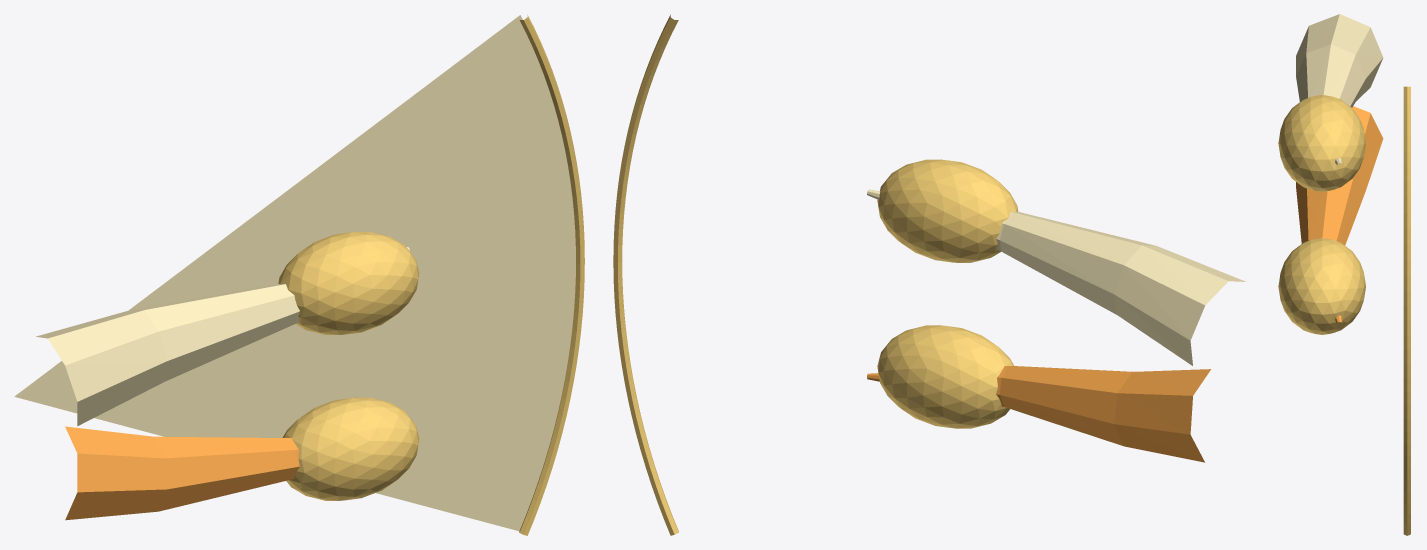
3 renders of one model, left to right at view 1: azimuth 30°, elevation 25°; view 2: azimuth 150°, elevation 25°; view 3: azimuth 270°, elevation 25°, orthographic. The views are drawn at different scales.
Parts seen in each view (by area): view 1: Q_forward_cone_fill, Q_punch_trail_1, Q_punch_trail_-1, Q_fist_1, Q_fist_-1, Q_forward_cone_rim; view 2: Q_punch_trail_1, Q_punch_trail_-1, Q_fist_1, Q_fist_-1, Q_forward_cone_rim; view 3: Q_fist_1, Q_fist_-1, Q_punch_trail_1, Q_punch_trail_-1, Q_forward_cone_rim.
Part boxes in pixels (x1=…): Q_forward_cone_fill: x1=14, y1=15, x2=575, y2=531; Q_punch_trail_1: x1=36, y1=247, x2=410, y2=426; Q_punch_trail_-1: x1=65, y1=426, x2=299, y2=520; Q_fist_1: x1=278, y1=232, x2=419, y2=334; Q_fist_-1: x1=282, y1=397, x2=419, y2=500; Q_forward_cone_rim: x1=519, y1=14, x2=584, y2=535; Q_punch_trail_1: x1=867, y1=189, x2=1245, y2=365; Q_punch_trail_-1: x1=867, y1=366, x2=1210, y2=462; Q_fist_1: x1=877, y1=159, x2=1018, y2=262; Q_fist_-1: x1=877, y1=325, x2=1013, y2=428; Q_forward_cone_rim: x1=613, y1=14, x2=678, y2=535; Q_fist_1: x1=1278, y1=95, x2=1365, y2=191; Q_fist_-1: x1=1278, y1=238, x2=1365, y2=334; Q_punch_trail_1: x1=1296, y1=14, x2=1383, y2=166; Q_punch_trail_-1: x1=1296, y1=106, x2=1383, y2=323; Q_forward_cone_rim: x1=1403, y1=86, x2=1410, y2=535.
Bounding box in the file's own units: 3.28 × 2.83 × 0.765.
